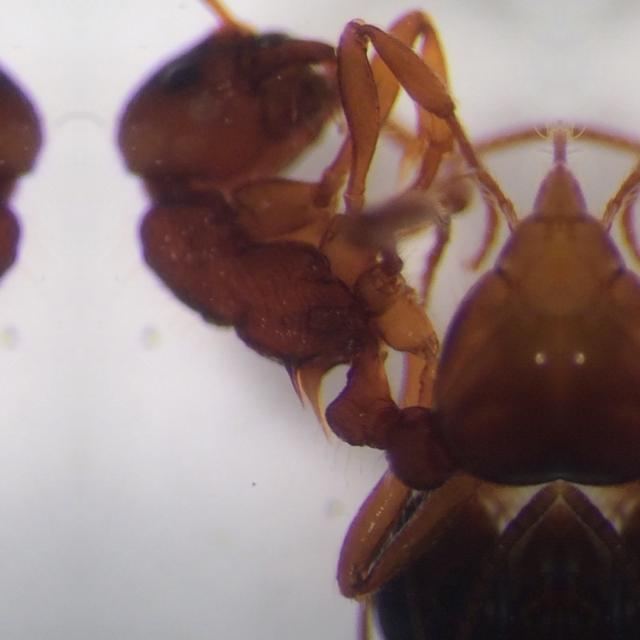Myrmica: (105, 0, 560, 640)
